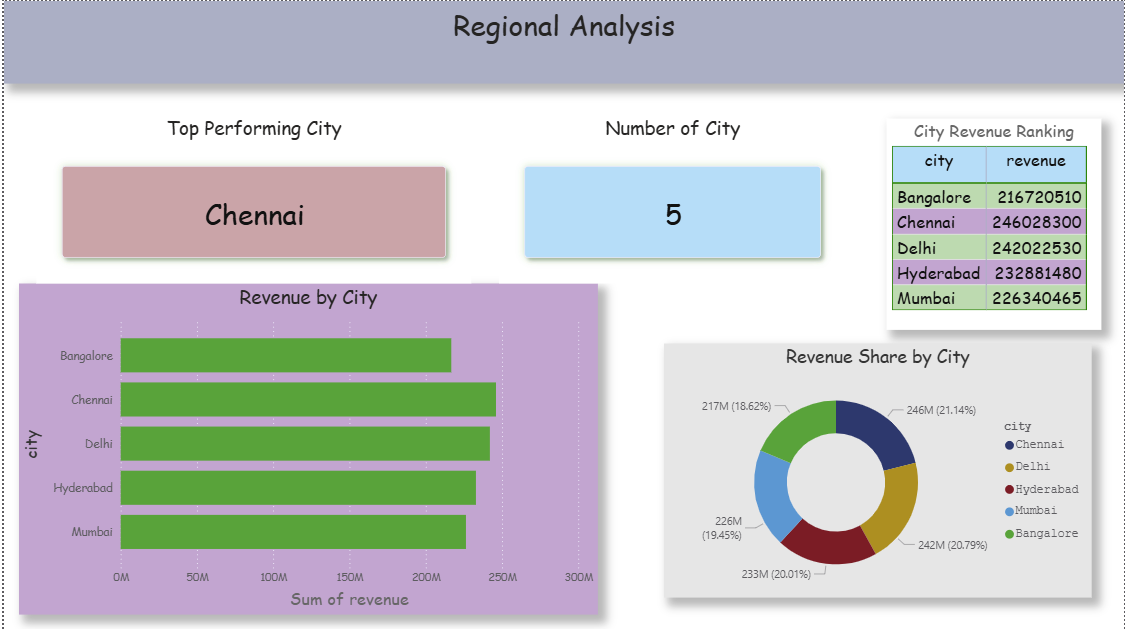

The dashboard page shown, as its layout file describes it:
{"tool":"powerbi","page":{"name":"Regional Analysis","canvas":[1280,720],"ordinal":4},"visuals":[{"type":"textbox","box":[0,0,1280,94.3],"z":0},{"type":"clusteredBarChart","title":"Revenue by City","fields":{"Category":["revenue_by_city.city"],"Y":["Sum(revenue_by_city.revenue)"]},"box":[17.1,322.9,661.4,378.6],"z":1000},{"type":"tableEx","title":"City Revenue Ranking","fields":{"Values":["revenue_by_city.city","revenue_by_city.revenue"]},"box":[1008.6,134.3,245.7,241.4],"z":2000},{"type":"donutChart","title":"Revenue Share by City","fields":{"Category":["revenue_by_city.city"],"Y":["Sum(revenue_by_city.revenue)"]},"box":[754.3,391.4,488.6,290],"z":3000},{"type":"cardVisual","title":"Number of City","fields":{"Data":["Count(revenue_by_city.city)"]},"box":[565.7,130,397.1,192.9],"z":4000},{"type":"cardVisual","title":"Top Performing City","fields":{"Data":["Gold.Top City"]},"box":[37.1,130,497.1,192.9],"z":5000}]}

Visuals, with their boxes in screenshot pixels (x1, y1, x2, y2), scaled from the page's 1280x720 canvas onto the 1125x629 screenshot:
textbox: {"x1": 0, "y1": 0, "x2": 1124, "y2": 82}
"Revenue by City" clusteredBarChart: {"x1": 15, "y1": 282, "x2": 596, "y2": 613}
"City Revenue Ranking" tableEx: {"x1": 886, "y1": 117, "x2": 1102, "y2": 328}
"Revenue Share by City" donutChart: {"x1": 663, "y1": 342, "x2": 1092, "y2": 595}
"Number of City" cardVisual: {"x1": 497, "y1": 114, "x2": 846, "y2": 282}
"Top Performing City" cardVisual: {"x1": 33, "y1": 114, "x2": 470, "y2": 282}
